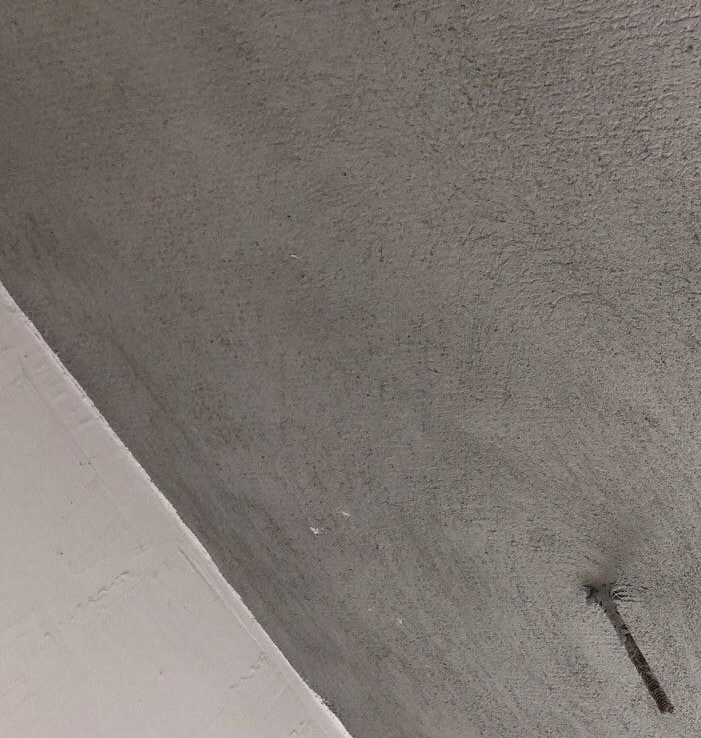Exposed reinforcement: (587, 583, 675, 715)
